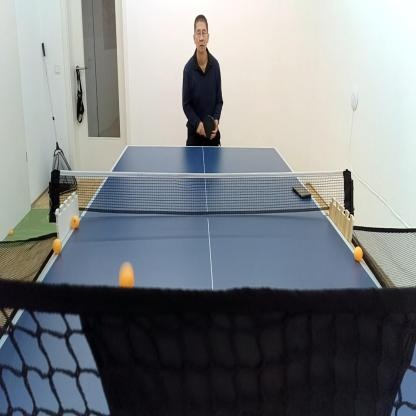Ball: (117, 258, 136, 289), (352, 244, 364, 264), (52, 236, 63, 257), (70, 213, 80, 231), (8, 227, 14, 238), (111, 156, 116, 166)
